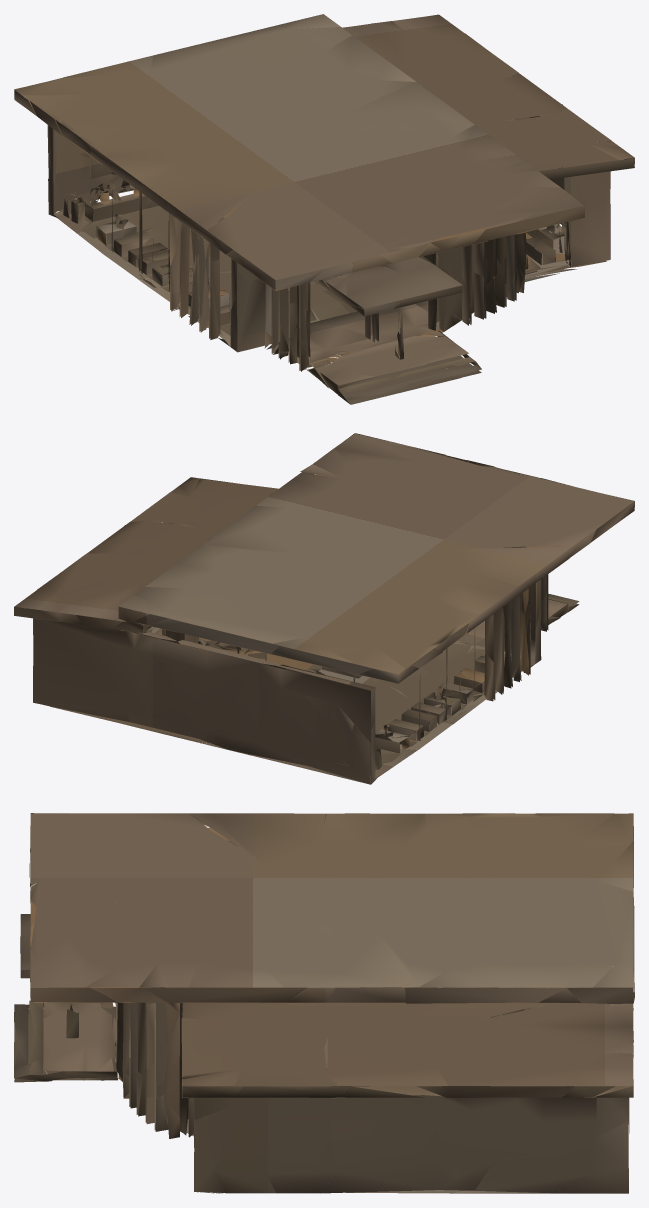
File: lodge_lobby.glb
3 renders of one model, top to bottom at view 1: azimuth 30°, elevation 25°; view 2: azimuth 150°, elevation 25°; view 3: azimuth 270°, elevation 25°, orthographic. The views are drawn at different scales.
Visible parts, largest first — view 1: LO.001; view 2: LO.001; view 3: LO.001.
Boxes of the visible parts, box(x1,y1,x2,y2) form: LO.001: box(14, 14, 634, 404); LO.001: box(14, 433, 634, 784); LO.001: box(14, 813, 634, 1193).
Bounding box in the file's own units: 26.04 × 7.98 × 28.5.
Materials: 1 (1 with a texture image).
